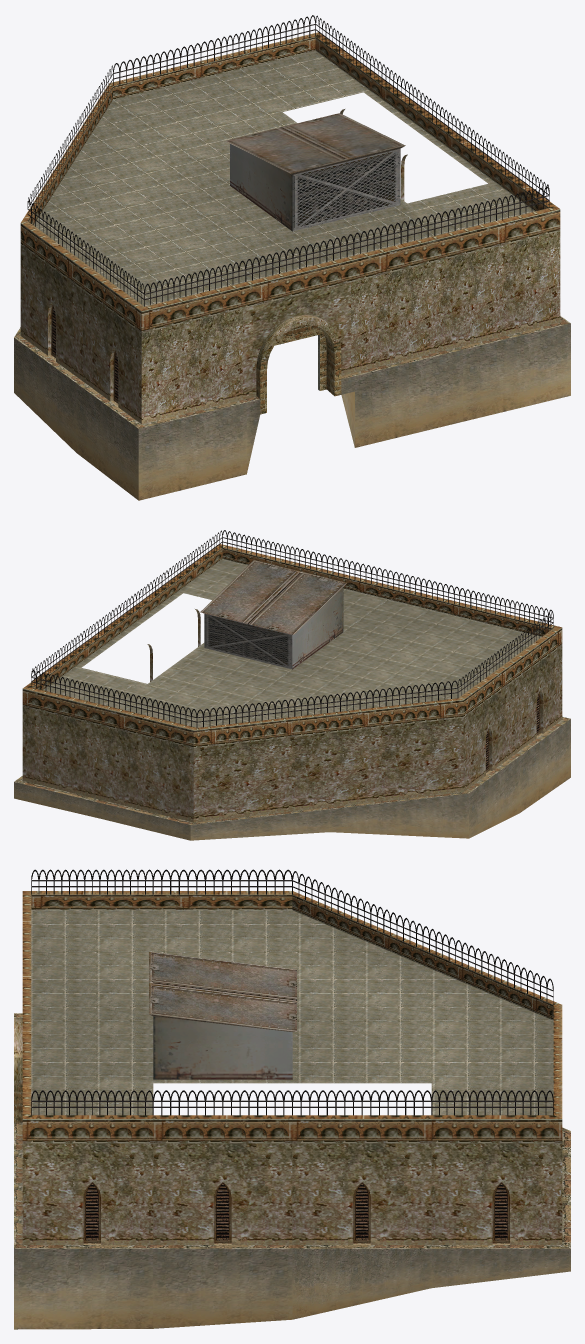
Rendered from M5Z1_VillageExt_05.glb.
The picture shows the model from 3 angles, top to bottom: view 1: azimuth 30°, elevation 25°; view 2: azimuth 150°, elevation 25°; view 3: azimuth 270°, elevation 25°; orthographic projection. The views are drawn at different scales.
Parts seen in each view (by area): view 1: M5Z1_VILLAGEEXT_05; view 2: M5Z1_VILLAGEEXT_05; view 3: M5Z1_VILLAGEEXT_05.
Boxes of the visible parts, left/top/right/bottom form: M5Z1_VILLAGEEXT_05: left=14, top=15, right=570, bottom=500; M5Z1_VILLAGEEXT_05: left=14, top=530, right=570, bottom=840; M5Z1_VILLAGEEXT_05: left=14, top=869, right=570, bottom=1329.
Size of the model in its own units: 16 by 8.18 by 16.
12 materials, 12 textured.
